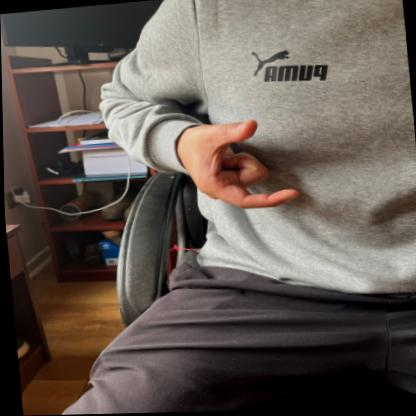G: (170, 110, 304, 220)
